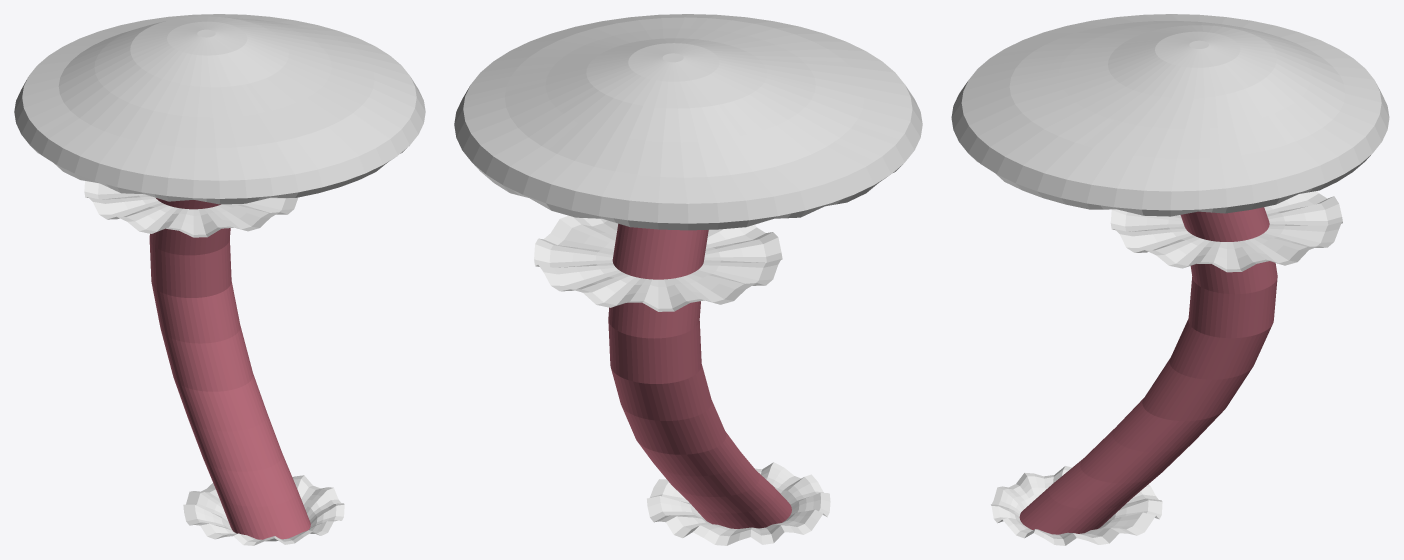
Rendered from PilzC (1).fbx.
The picture shows the model from 3 angles, left to right: view 1: azimuth 30°, elevation 25°; view 2: azimuth 150°, elevation 25°; view 3: azimuth 270°, elevation 25°; orthographic projection. The views are drawn at different scales.
Visible parts, largest first — view 1: Torus, Torus.003, Torus.002, Torus.004; view 2: Torus, Torus.003, Torus.002, Torus.004; view 3: Torus, Torus.003, Torus.002, Torus.004.
Boxes of the visible parts, x1,y1,x2,y2 form: Torus: [14, 14, 425, 204]; Torus.003: [149, 198, 310, 539]; Torus.002: [84, 181, 297, 237]; Torus.004: [183, 475, 344, 545]; Torus: [454, 14, 922, 230]; Torus.003: [608, 223, 791, 528]; Torus.002: [534, 215, 782, 311]; Torus.004: [647, 462, 830, 545]; Torus: [951, 14, 1389, 216]; Torus.003: [1019, 207, 1277, 534]; Torus.002: [1110, 191, 1342, 272]; Torus.004: [991, 466, 1162, 545].
Size of the model in its own units: 235 by 280 by 235.
